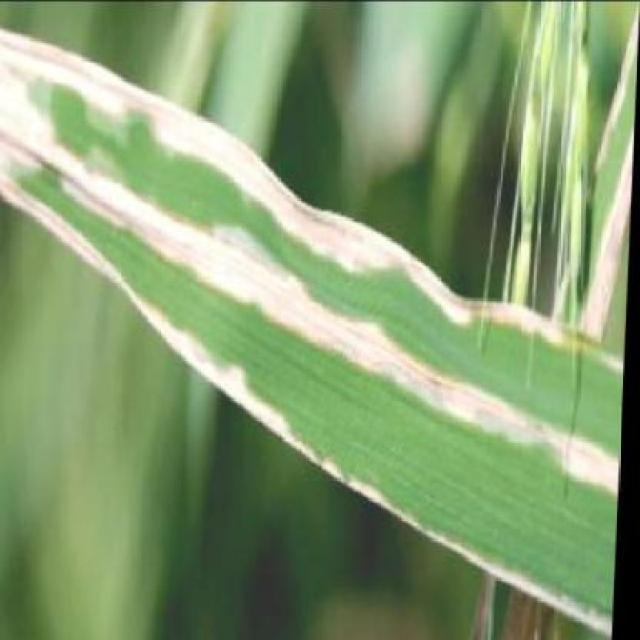Brown_Spot: (0, 95, 477, 368)
